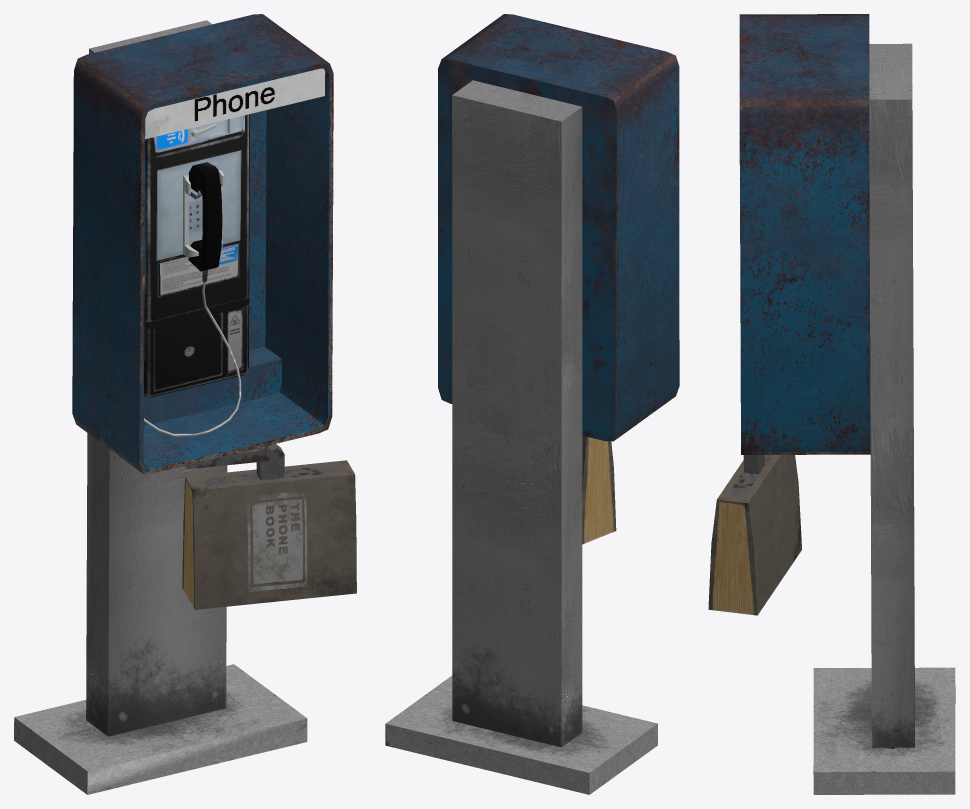
File: phone.obj
The picture shows the model from 3 angles, left to right: view 1: azimuth 30°, elevation 25°; view 2: azimuth 150°, elevation 25°; view 3: azimuth 270°, elevation 25°; orthographic projection. The views are drawn at different scales.
Visible parts, largest first — view 1: o_phone001_Material_#422_0; view 2: o_phone001_Material_#422_0; view 3: o_phone001_Material_#422_0.
Part boxes in pixels (x1=…): o_phone001_Material_#422_0: x1=14, y1=14, x2=356, y2=794; o_phone001_Material_#422_0: x1=385, y1=14, x2=679, y2=794; o_phone001_Material_#422_0: x1=708, y1=14, x2=955, y2=794.
Bounding box in the file's own units: 52.44 × 157 × 51.06.
1 material, 1 textured.
